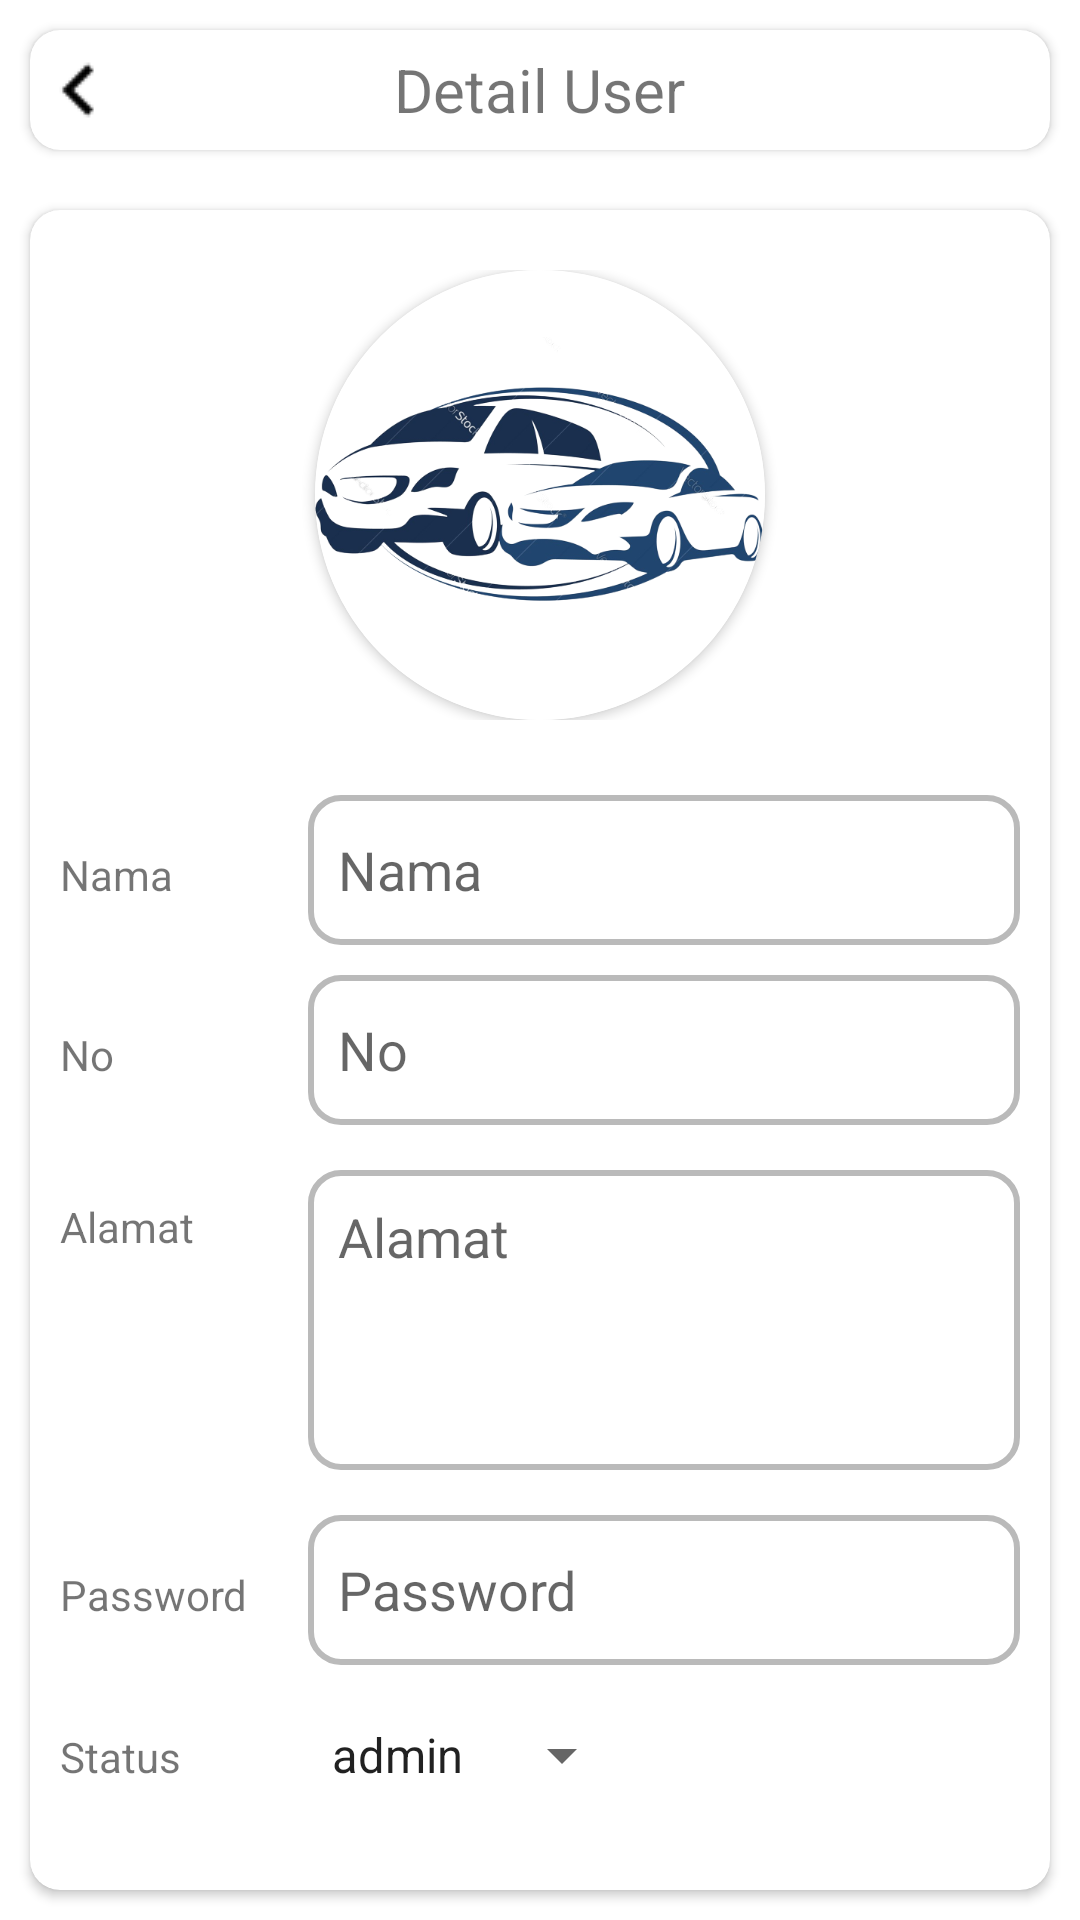

Icons on this 1080*1920 Android screen, each with the point to tap as (x=x, y=y):
arrow left: (x=78, y=90)
